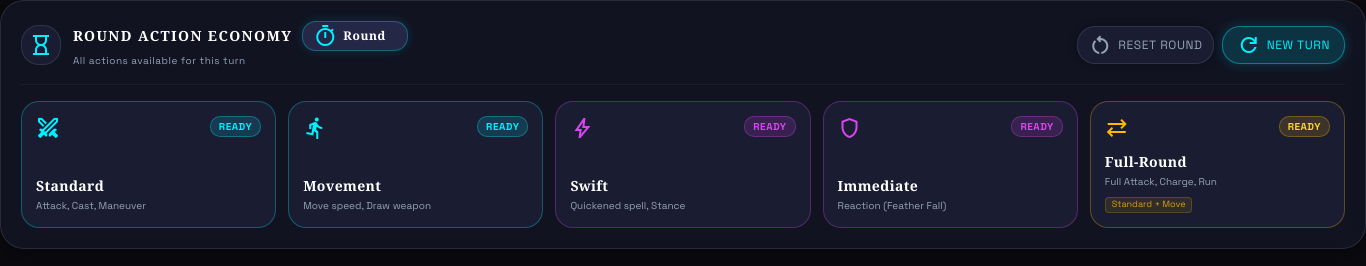
Test case: ActionEconomyTracker Component › clicking New Turn resets all actions and increments the round counter
The width and height of the screenshot is (1366, 266).
// Commit Standard and Swift actions
Click the button "Ready Standard Attack, Cast, Maneuver" at (149, 164), box [21,101,276,228]
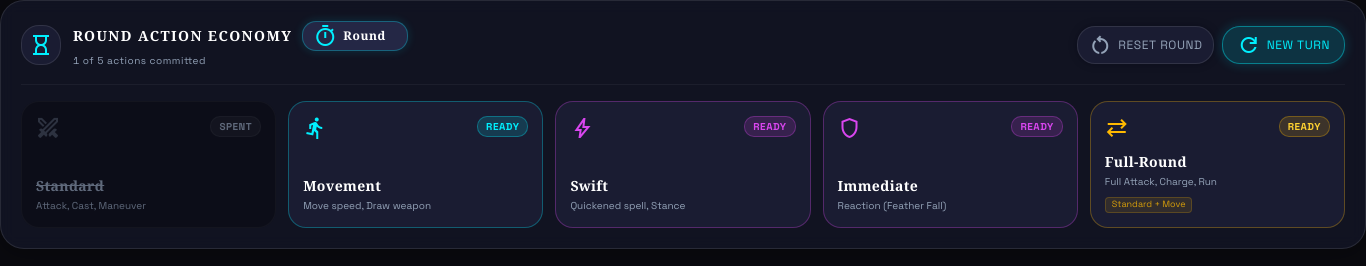
Click the button "Ready Swift Quickened spell, Stance" at (683, 164), box [555,101,811,228]
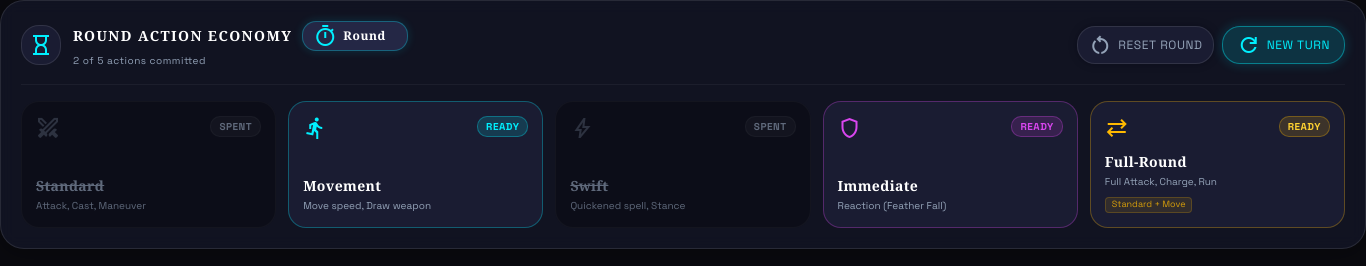
Check: the text "Spent" is shown 2 times, box [210,116,261,137]; [745,116,796,137]
// Click New Turn
Click the button "New Turn" at (1283, 44), box [1222,26,1345,64]
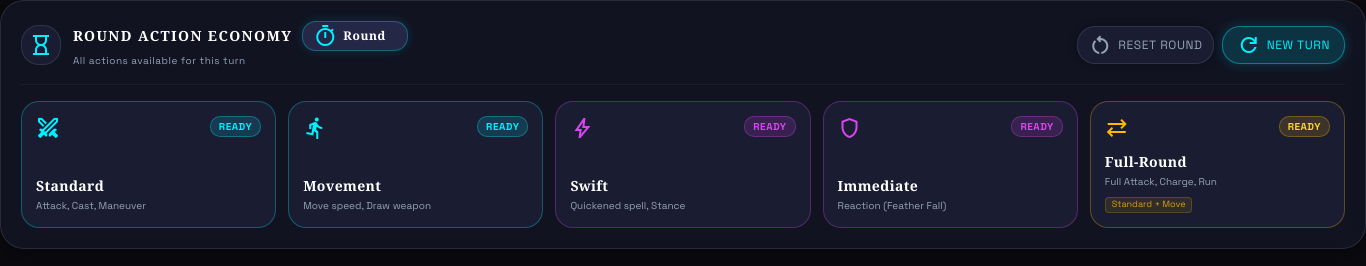
Check: the text "Ready" is shown 5 times, box [210,116,261,137]; [477,116,528,137]; [744,116,796,137]; [1012,116,1063,137]; [1279,116,1330,137]
Check: the button "Spent" is gone
Check: the text "All actions available for this turn" is shown, box [73,54,246,67]
Click the button "New Turn" at (1283, 44), box [1222,26,1345,64]
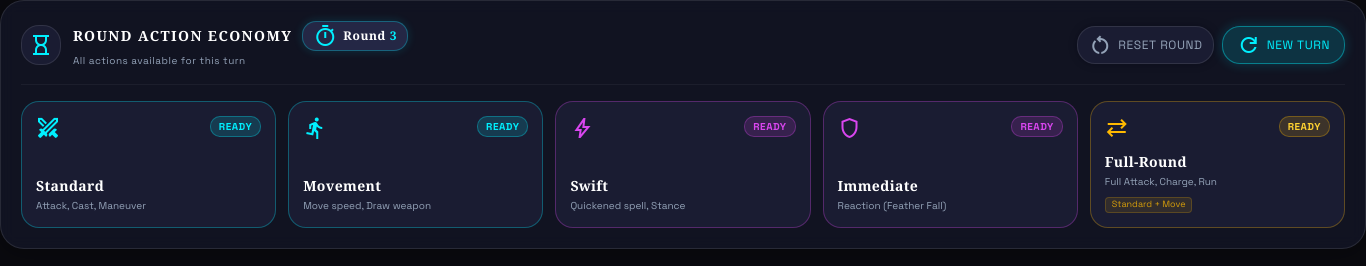
Check: the element with test id "round-counter" reads "Round 3", box [343,28,397,44]
